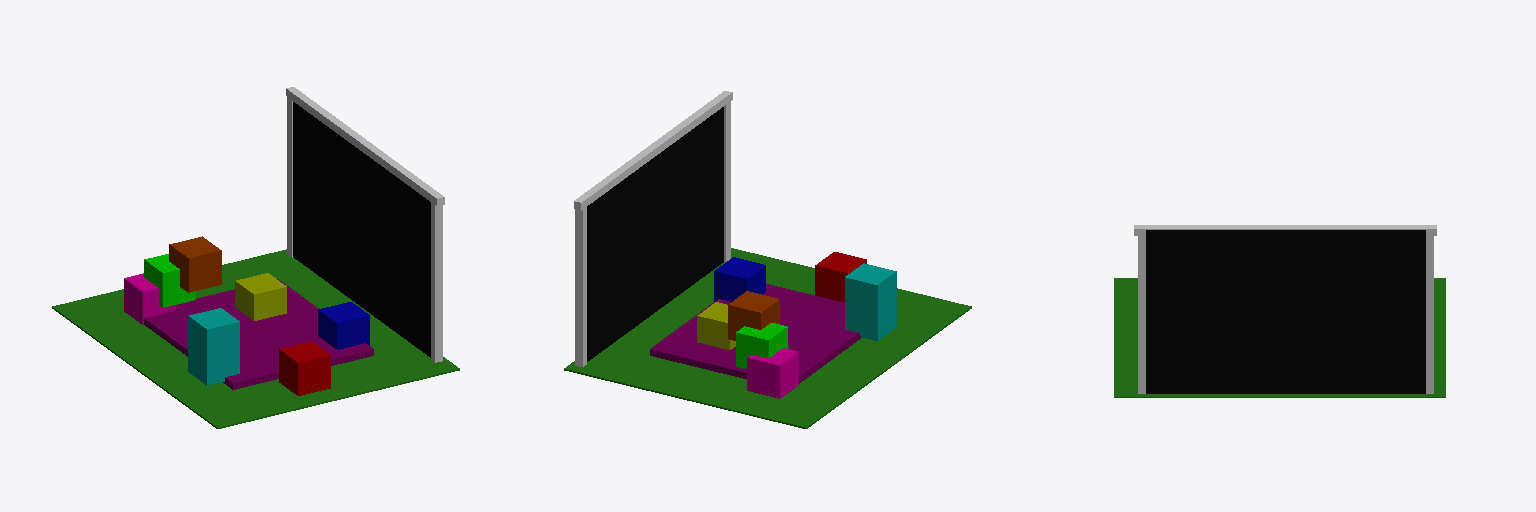
Rendered from newSimpleScene.obj.
3 views of the same model, side by side, from view 1: azimuth 30°, elevation 25°; view 2: azimuth 150°, elevation 25°; view 3: azimuth 270°, elevation 25° (orthographic).
Parts seen in each view (by area): view 1: Cube_Cube.001, Object.01_Object.1, Object.09_Object.9, Object.06_Object.6, Object.04_Object.4, Cube.003_Cube.004, Object.08_Object.8, Object.05_Object.5, Object.03_Object.3, Cube.002_Cube.003, Object.07_Object.7, Object.02_Object.2 (+1 smaller); view 2: Cube_Cube.001, Object.01_Object.1, Object.09_Object.9, Object.06_Object.6, Cube.003_Cube.004, Object.02_Object.2, Cube.001_Cube.002, Object.05_Object.5, Object.08_Object.8, Object.07_Object.7, Object.04_Object.4, Object.03_Object.3 (+1 smaller); view 3: Cube_Cube.001, Object.01_Object.1, Cube.003_Cube.004, Cube.002_Cube.003, Cube.001_Cube.002.
Boxes of the visible parts, box(x1,y1,x2,y2) form: Cube_Cube.001: box(293, 102, 430, 357); Object.01_Object.1: box(52, 249, 459, 428); Object.09_Object.9: box(144, 279, 373, 389); Object.06_Object.6: box(188, 308, 239, 385); Object.04_Object.4: box(279, 341, 330, 395); Cube.003_Cube.004: box(286, 87, 444, 206); Object.08_Object.8: box(169, 236, 221, 292); Object.05_Object.5: box(318, 302, 369, 349); Object.03_Object.3: box(235, 273, 286, 320); Cube.002_Cube.003: box(431, 203, 442, 362); Object.07_Object.7: box(144, 254, 195, 307); Object.02_Object.2: box(124, 273, 175, 324); Cube_Cube.001: box(587, 107, 723, 361); Object.01_Object.1: box(564, 248, 971, 428); Object.09_Object.9: box(650, 284, 861, 383); Object.06_Object.6: box(845, 263, 896, 340); Cube.003_Cube.004: box(574, 91, 732, 210); Object.02_Object.2: box(747, 348, 798, 398); Cube.001_Cube.002: box(575, 203, 586, 367); Object.05_Object.5: box(714, 257, 765, 301); Object.08_Object.8: box(728, 291, 779, 340); Object.07_Object.7: box(736, 323, 787, 368); Object.04_Object.4: box(815, 252, 866, 302); Object.03_Object.3: box(697, 302, 735, 349); Cube_Cube.001: box(1146, 230, 1425, 393); Object.01_Object.1: box(1114, 278, 1445, 397); Cube.003_Cube.004: box(1134, 225, 1436, 235); Cube.002_Cube.003: box(1138, 232, 1145, 393); Cube.001_Cube.002: box(1426, 232, 1433, 393).
Bounding box in the file's own units: 3.09 × 2.05 × 3.66.